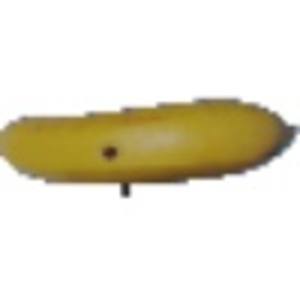banana: (1, 94, 297, 190)
